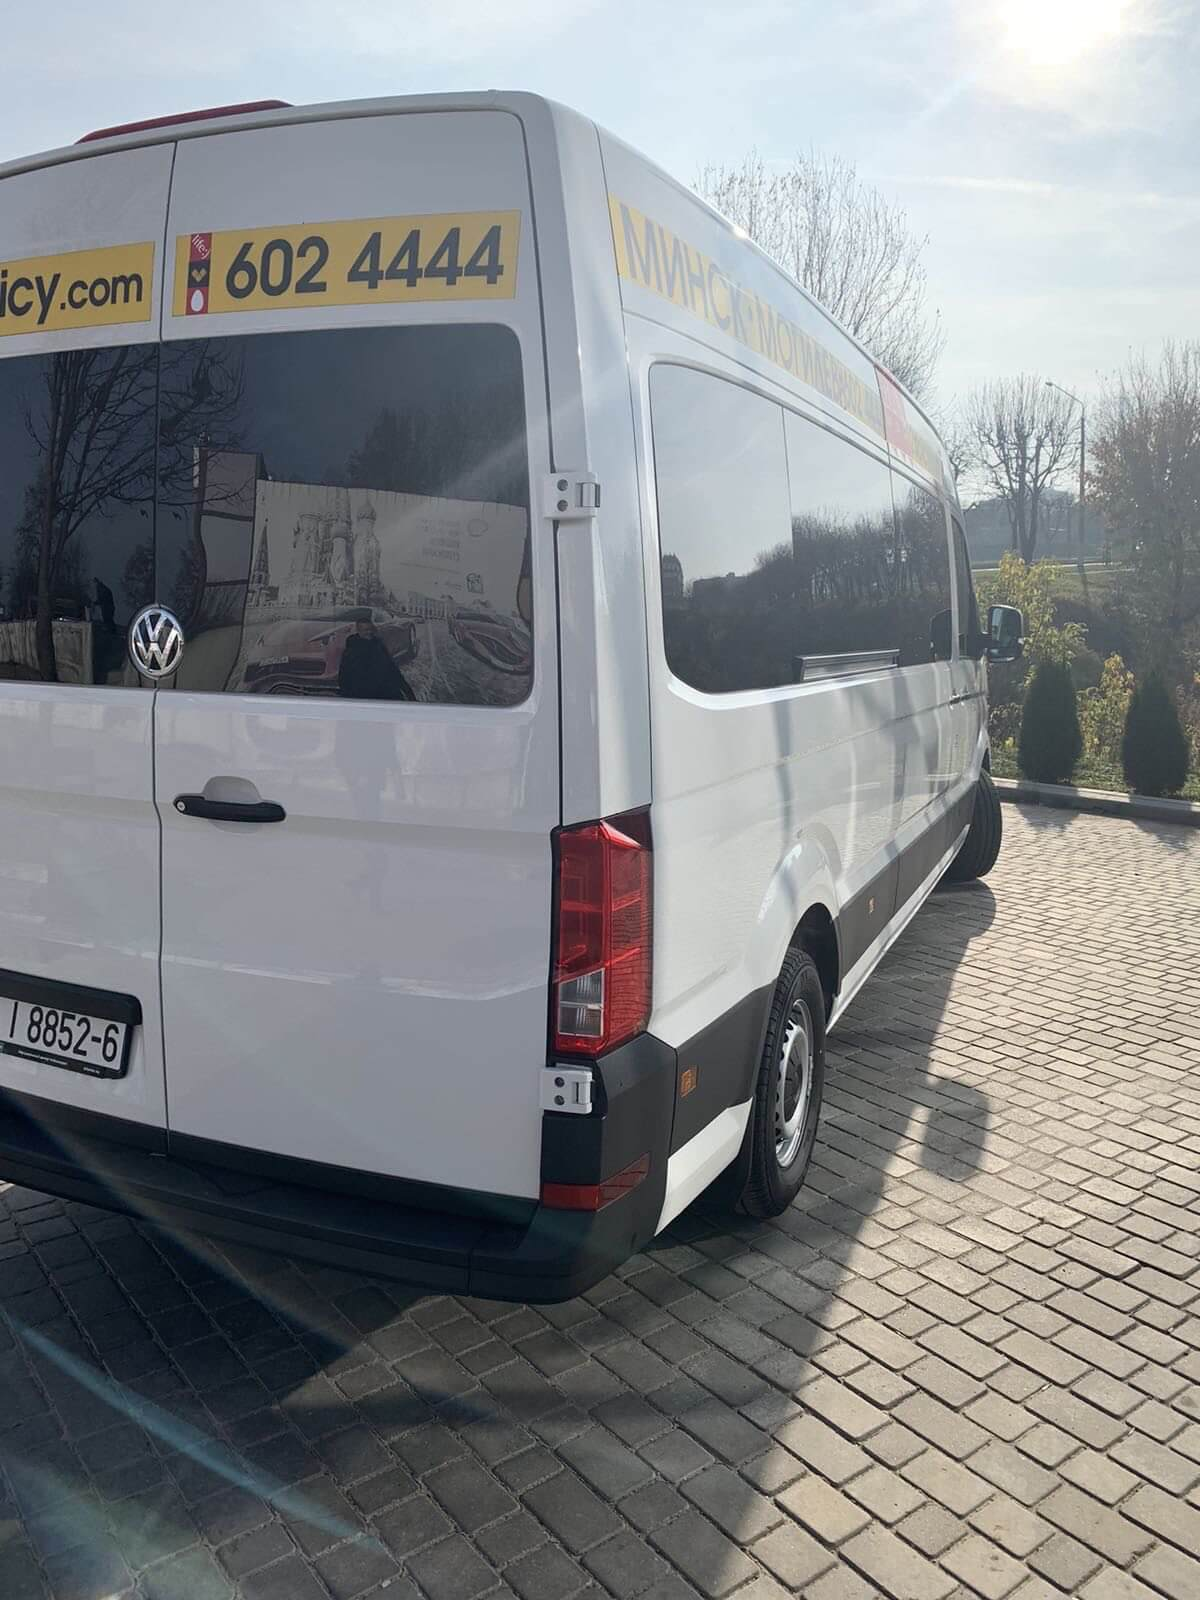van: (5, 89, 1005, 1299)
